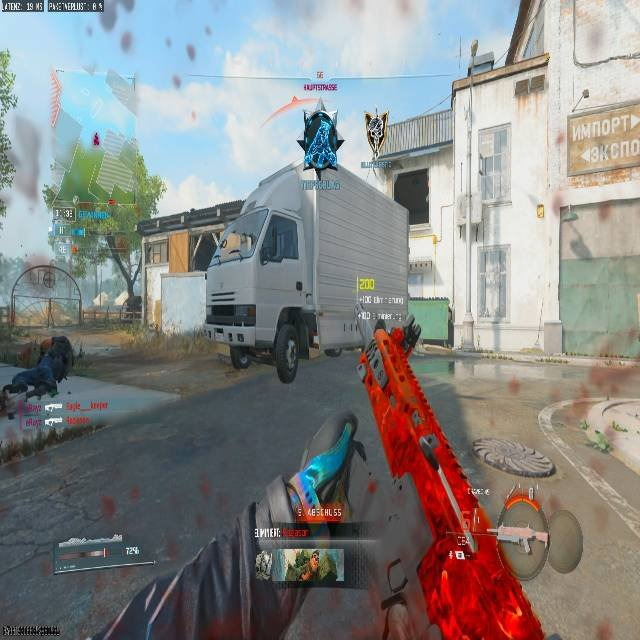head: (50, 334, 68, 351)
player: (0, 336, 81, 475), (298, 110, 343, 179)
